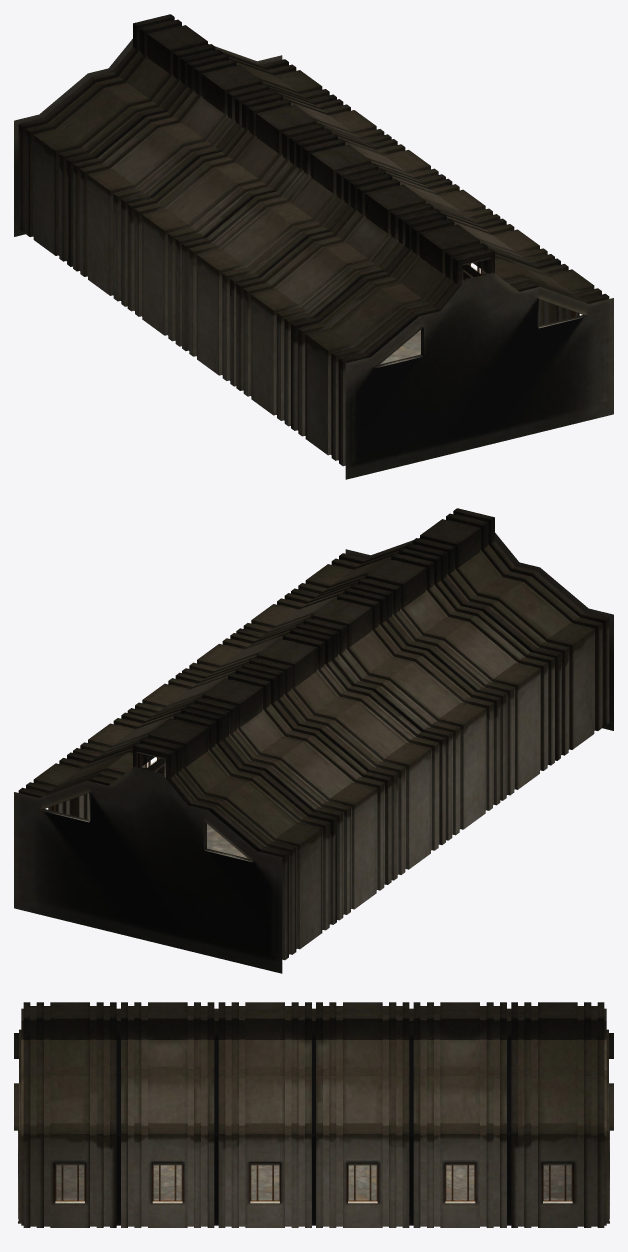
Rendered from abandoned_room.glb.
3 views of the same model, one above another, from view 1: azimuth 30°, elevation 25°; view 2: azimuth 150°, elevation 25°; view 3: azimuth 270°, elevation 25° (orthographic). The views are drawn at different scales.
Parts seen in each view (by area): view 1: Object_2, Object_3; view 2: Object_2, Object_3; view 3: Object_2, Object_3.
Boxes of the visible parts, <box> form: Object_2: <box>14,14,609,466</box>; Object_3: <box>39,47,613,479</box>; Object_2: <box>14,508,609,973</box>; Object_3: <box>75,533,613,817</box>; Object_2: <box>14,1002,613,1227</box>; Object_3: <box>18,1029,609,1223</box>.
Bounding box in the file's own units: 8.64 × 5.71 × 18.41.
Materials: 1 (1 with a texture image).
